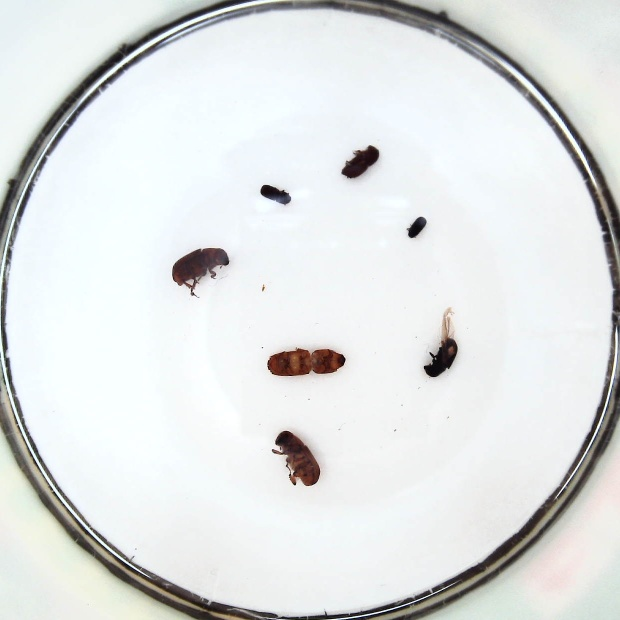acuminatus: (258, 181, 293, 207)
armandi: (422, 331, 458, 379)
boerner: (266, 344, 346, 376)
coleoptera: (406, 216, 428, 239)
leconte: (270, 429, 321, 489), (171, 246, 232, 296)
linnaeus: (341, 143, 380, 181)
